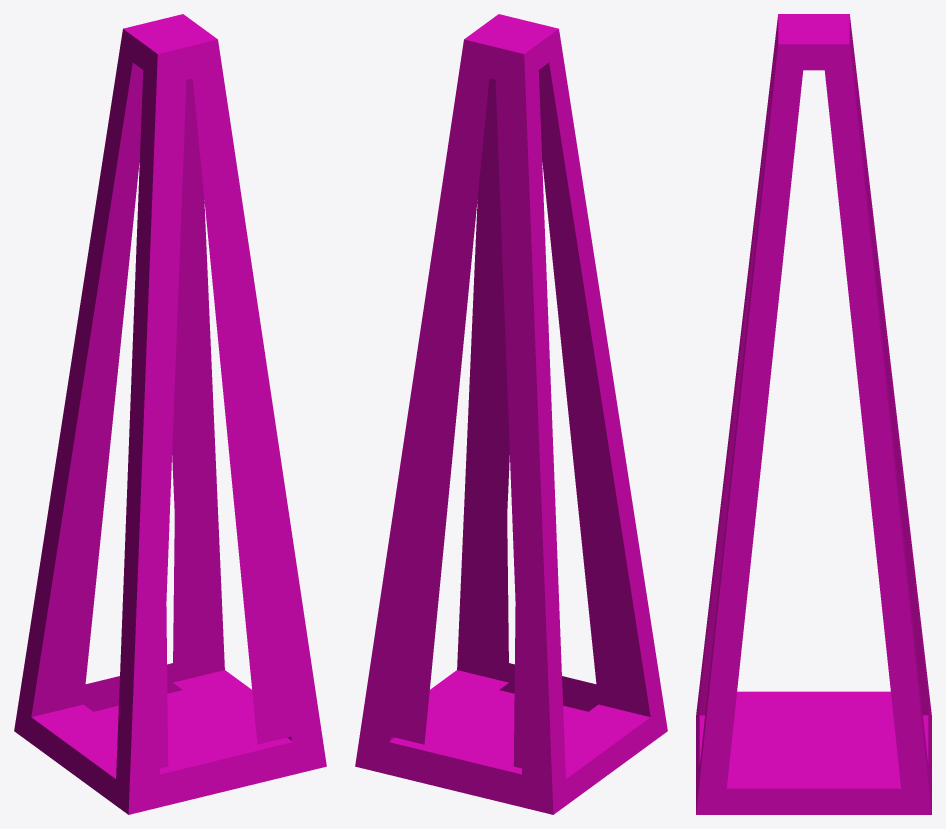
Rendered from pik1.glb.
3 views of the same model, side by side, from view 1: azimuth 30°, elevation 25°; view 2: azimuth 150°, elevation 25°; view 3: azimuth 270°, elevation 25° (orthographic). The views are drawn at different scales.
Visible parts, largest first — view 1: Cube; view 2: Cube; view 3: Cube.
Boxes of the visible parts, x1,y1,x2,y2 form: Cube: (14,14,326,814); Cube: (355,14,667,814); Cube: (696,14,931,814).
Size of the model in its own units: 2 by 6.89 by 2.
